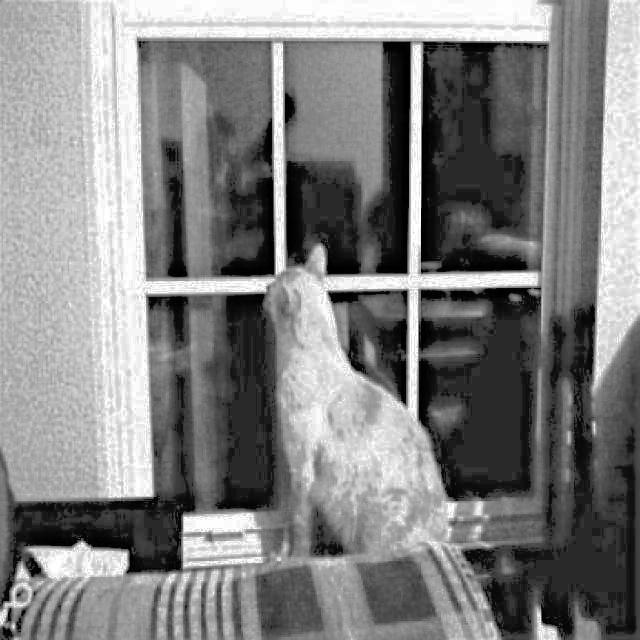Cat: (257, 240, 456, 566)
